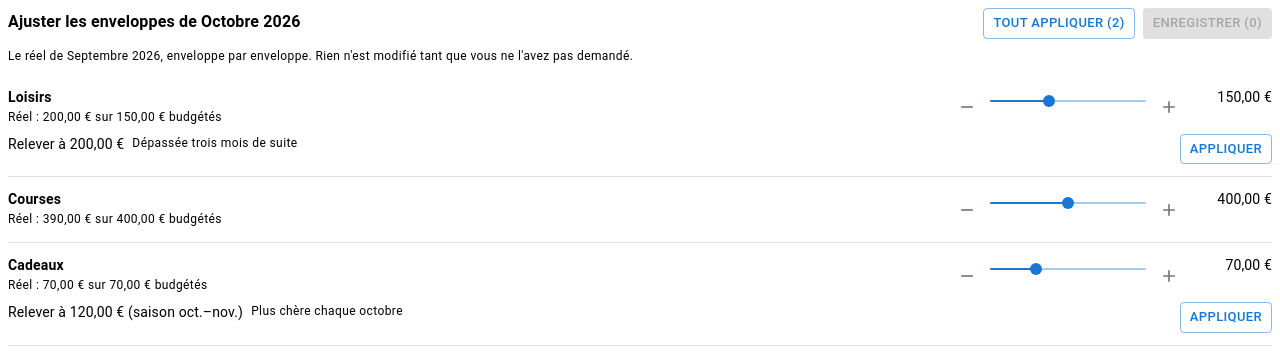
EnvelopeAdjustments › applies one suggestion with its amount, and marks it applied
The image size is (1280, 363).
Click the button with aria-label "Appliquer pour Loisirs": (1226, 149) [1180, 134, 1272, 164]
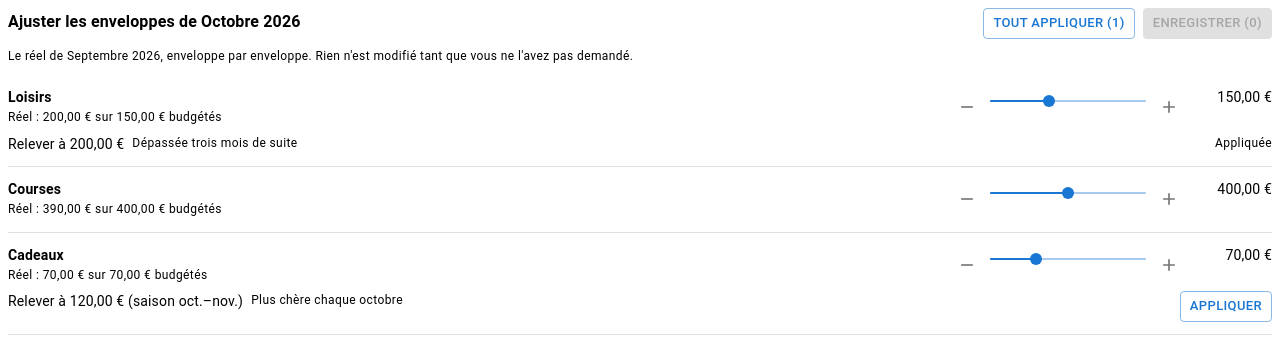
Check: the text "Appliquée" is shown, box [1215, 134, 1272, 154]
